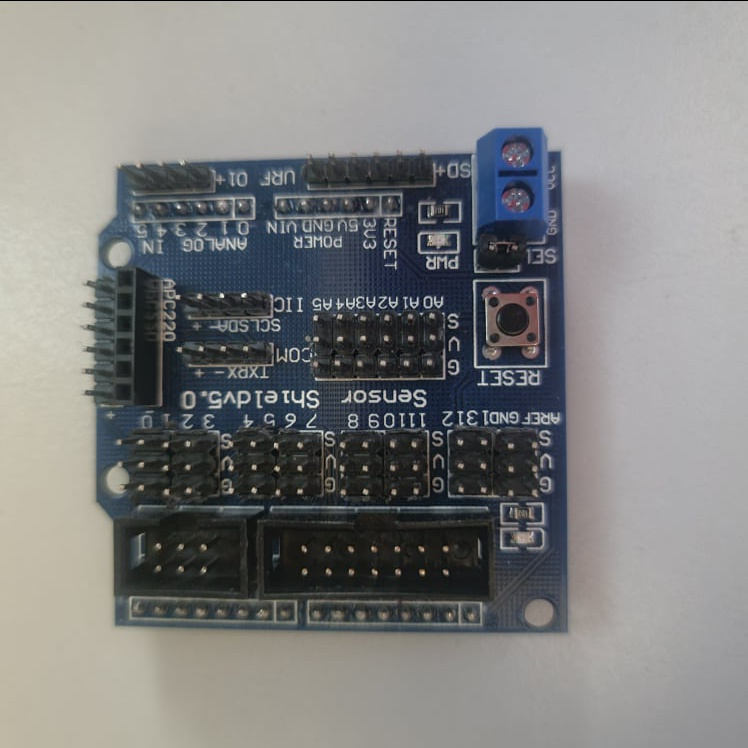5V EXPANSION: (85, 124, 566, 632)
